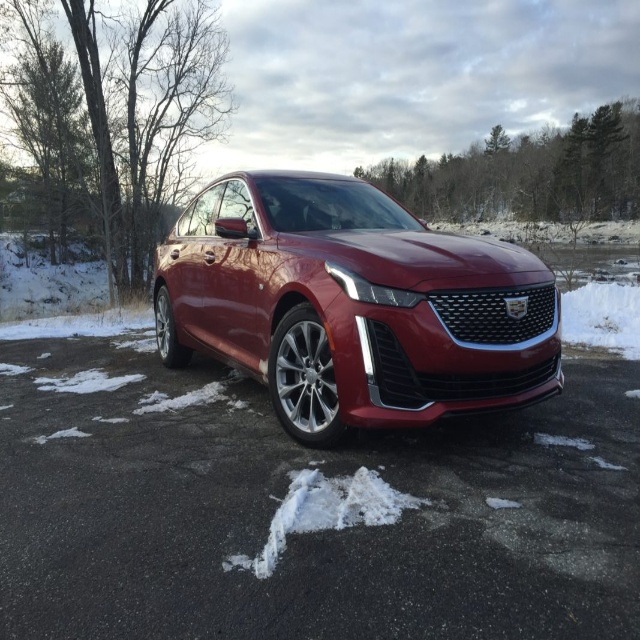Car: (151, 168, 564, 448)
